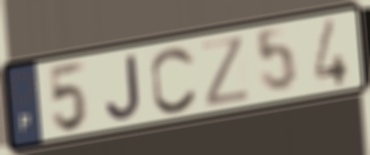4: (311, 16, 351, 89)
5: (252, 23, 302, 100), (44, 57, 93, 135)
C: (148, 44, 200, 116)
J: (102, 51, 143, 123)
Z: (198, 33, 253, 110)
